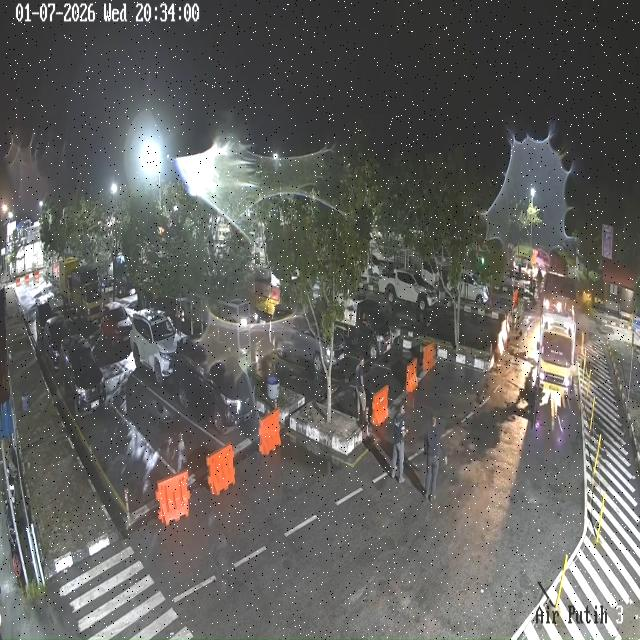Golongan IVA: (174, 339, 257, 433), (269, 305, 346, 375), (59, 335, 106, 418), (130, 309, 179, 386), (40, 315, 70, 371), (100, 301, 132, 348), (36, 302, 54, 344)
Golongan IVB: (378, 270, 439, 312)
Golongan VB: (537, 311, 576, 396), (59, 258, 102, 322)
